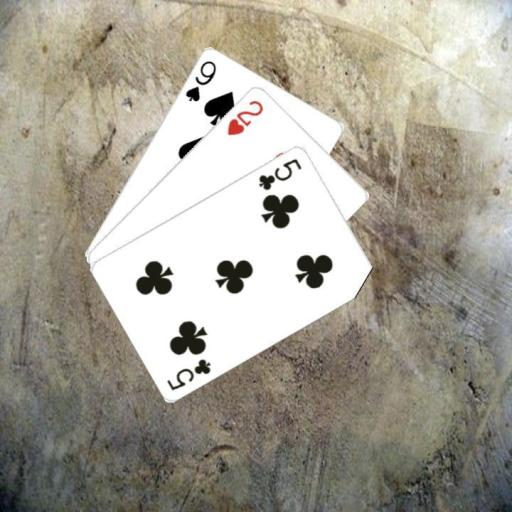2H: (224, 96, 265, 137)
5C: (255, 154, 303, 192), (164, 355, 213, 392)
9S: (182, 57, 218, 103)
